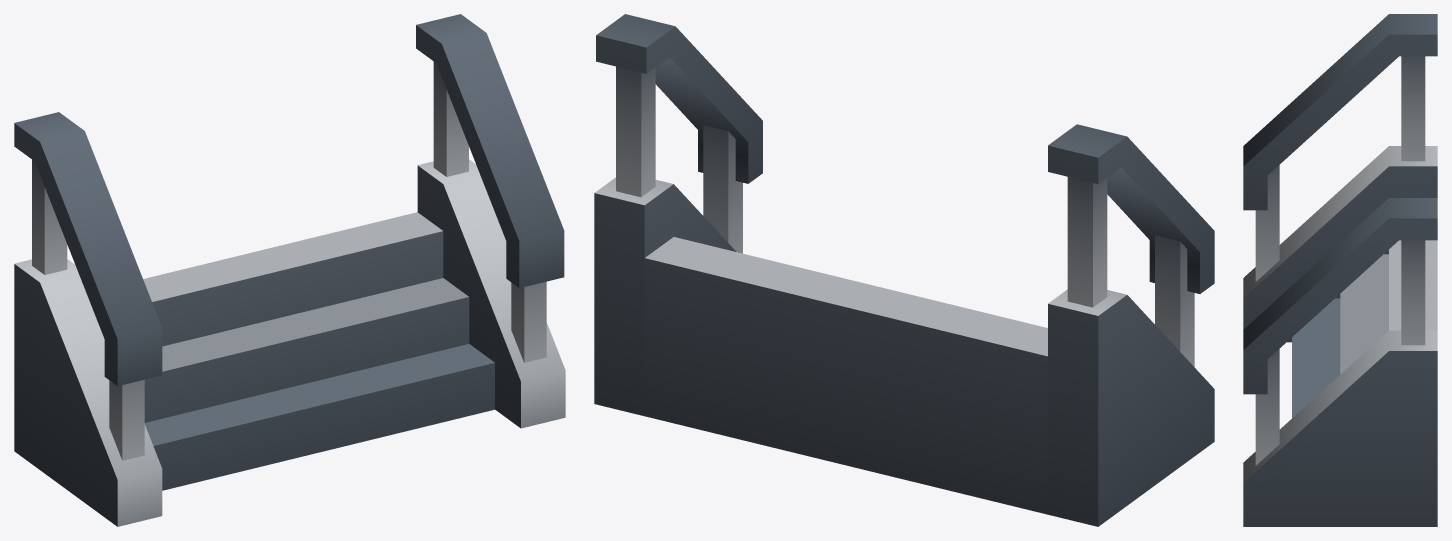
File: stairs-small-edges-handrail.glb
3 views of the same model, side by side, from view 1: azimuth 30°, elevation 25°; view 2: azimuth 150°, elevation 25°; view 3: azimuth 270°, elevation 25° (orthographic). The views are drawn at different scales.
Visible parts, largest first — view 1: stairs-small-edges-handrail; view 2: stairs-small-edges-handrail; view 3: stairs-small-edges-handrail.
Part boxes in pixels (box(x1,y1,x2,y2)): stairs-small-edges-handrail: box(14, 14, 565, 526); stairs-small-edges-handrail: box(594, 14, 1214, 526); stairs-small-edges-handrail: box(1243, 14, 1437, 526).
Bounding box in the file's own units: 1 × 0.7 × 0.3999.
